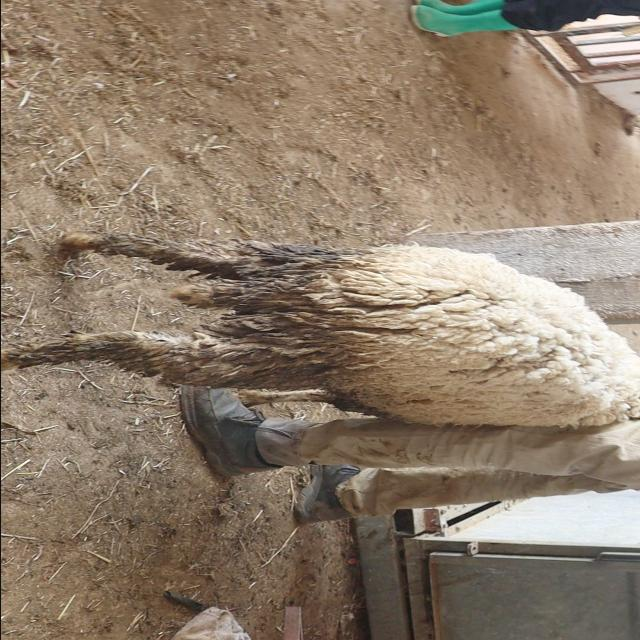Score_3: (1, 232, 640, 428)
